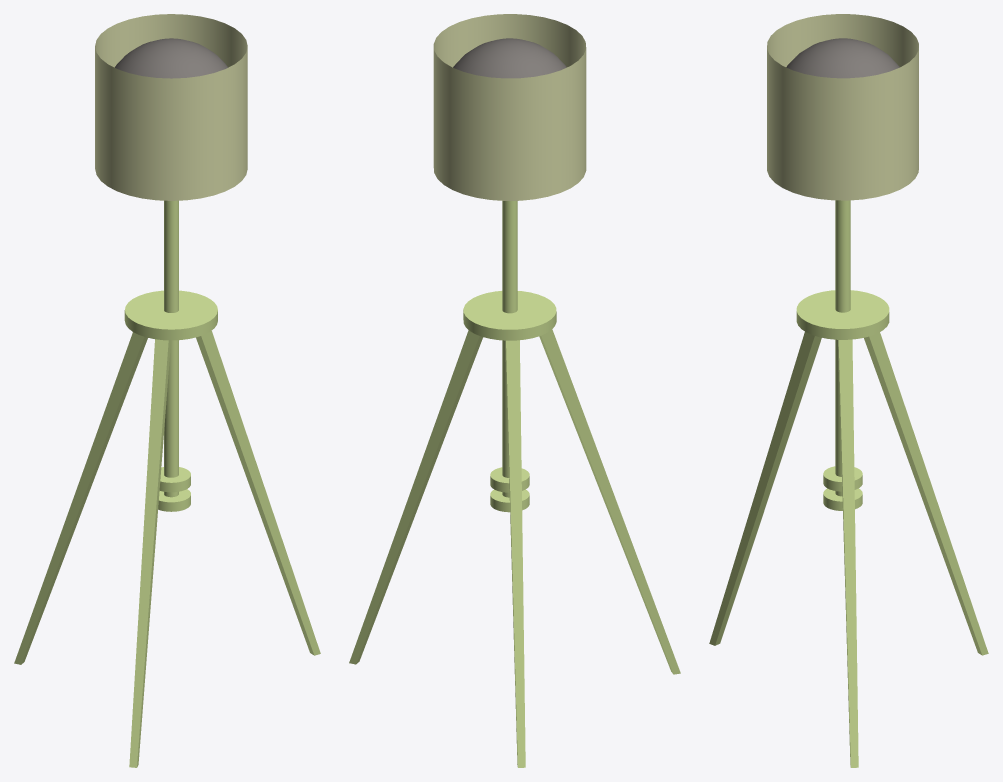
File: lamp_missed.glb
3 renders of one model, left to right at view 1: azimuth 30°, elevation 25°; view 2: azimuth 150°, elevation 25°; view 3: azimuth 270°, elevation 25°, orthographic.
Parts seen in each view (by area): view 1: lamp_missed; view 2: lamp_missed; view 3: lamp_missed.
Part boxes in pixels (x1,y1,x2,y2): lamp_missed: (14,14,320,767); lamp_missed: (349,14,680,767); lamp_missed: (709,14,988,767).
Bounding box in the file's own units: 0.8753 × 2.09 × 0.8164.
